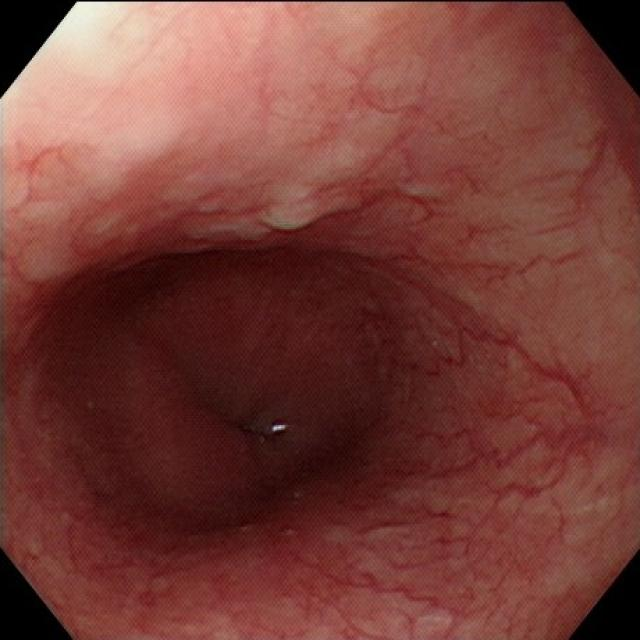I: (68, 244, 385, 527)
